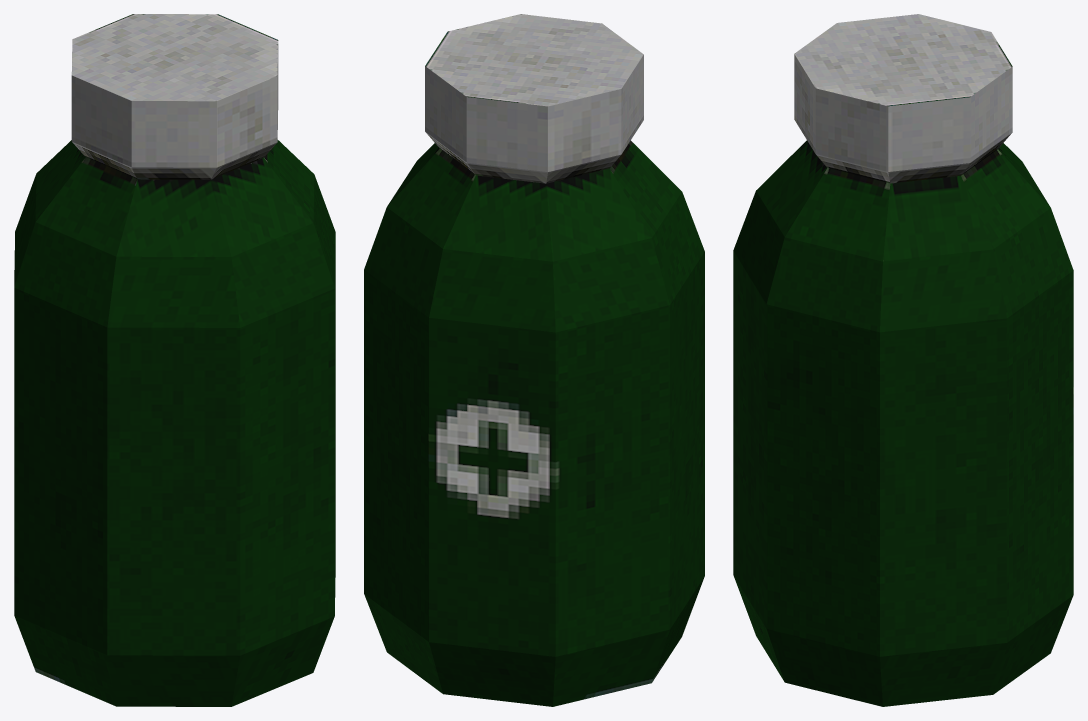
File: SM_MedicationBottle.fbx
3 renders of one model, left to right at view 1: azimuth 30°, elevation 25°; view 2: azimuth 150°, elevation 25°; view 3: azimuth 270°, elevation 25°, orthographic.
Parts seen in each view (by area): view 1: SM_MedicationBottle; view 2: SM_MedicationBottle; view 3: SM_MedicationBottle.
Boxes of the visible parts, left/top/right/bottom form: SM_MedicationBottle: left=14, top=14, right=335, bottom=706; SM_MedicationBottle: left=364, top=14, right=704, bottom=706; SM_MedicationBottle: left=733, top=14, right=1073, bottom=706.
Size of the model in its own units: 12.98 by 24.6 by 12.98.
